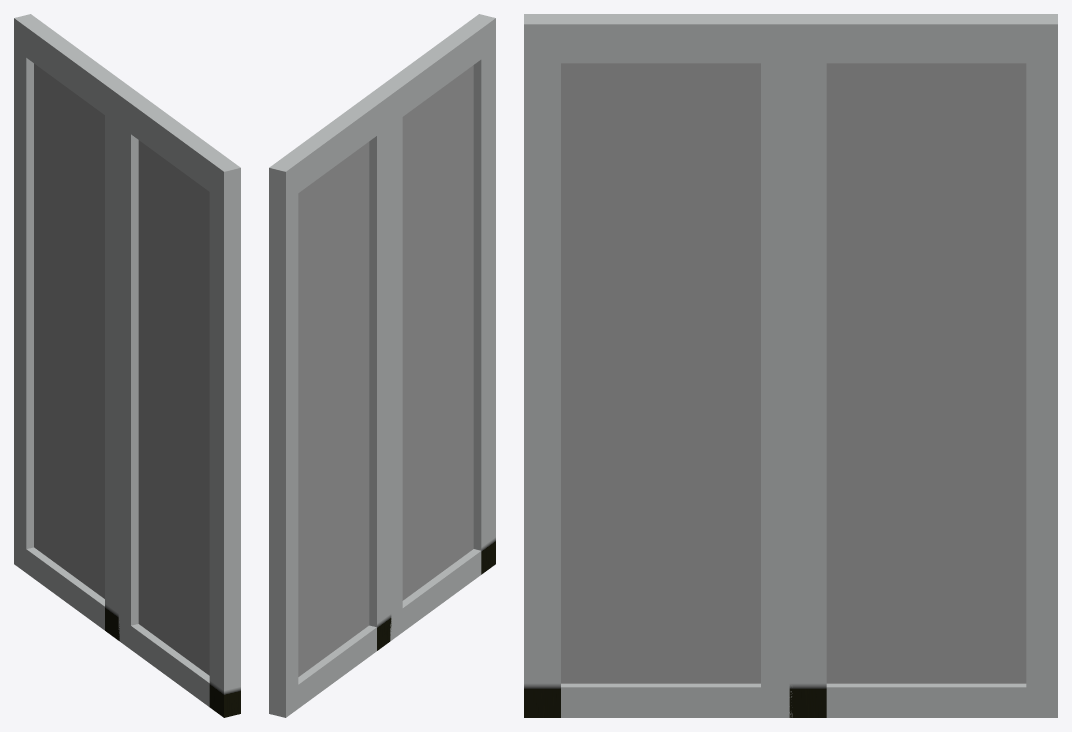
The model's file is Door.fbx.
The picture shows the model from 3 angles, left to right: view 1: azimuth 30°, elevation 25°; view 2: azimuth 150°, elevation 25°; view 3: azimuth 270°, elevation 25°; orthographic projection. The views are drawn at different scales.
Visible parts, largest first — view 1: Door_R, Door_Window_R, Door_Window_L, Door_L; view 2: Door_L, Door_Window_R, Door_Window_L, Door_R; view 3: Door_Window_L, Door_Window_R, Door_L, Door_R.
Part boxes in pixels (bbox=[...]): Door_R: bbox=[118, 90, 240, 717]; Door_Window_R: bbox=[138, 140, 209, 675]; Door_Window_L: bbox=[34, 63, 104, 598]; Door_L: bbox=[14, 14, 135, 640]; Door_L: bbox=[269, 90, 391, 717]; Door_Window_R: bbox=[402, 65, 473, 600]; Door_Window_L: bbox=[298, 142, 369, 676]; Door_R: bbox=[375, 14, 495, 640]; Door_Window_L: bbox=[826, 63, 1026, 683]; Door_Window_R: bbox=[561, 63, 760, 683]; Door_L: bbox=[789, 14, 1057, 717]; Door_R: bbox=[524, 14, 792, 717].
Size of the model in its own units: 0.1226 by 3.81 by 2.66.
